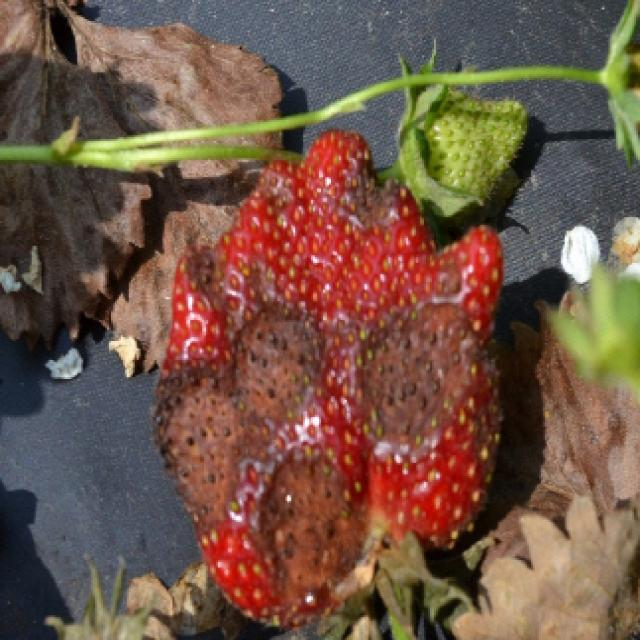Anthracnose Fruit Rot: (145, 128, 503, 627)
